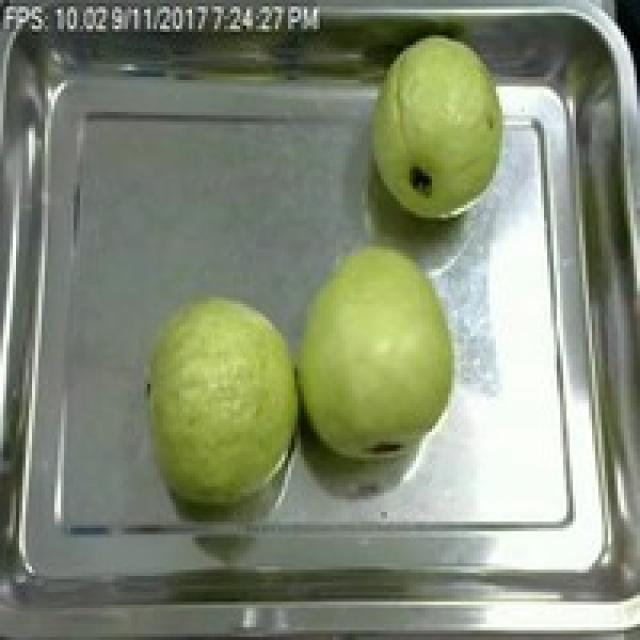Fruit: (288, 240, 470, 467), (138, 285, 314, 515), (356, 19, 518, 230)
